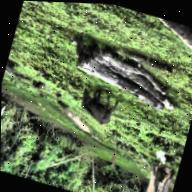boar: (71, 88, 127, 135)
